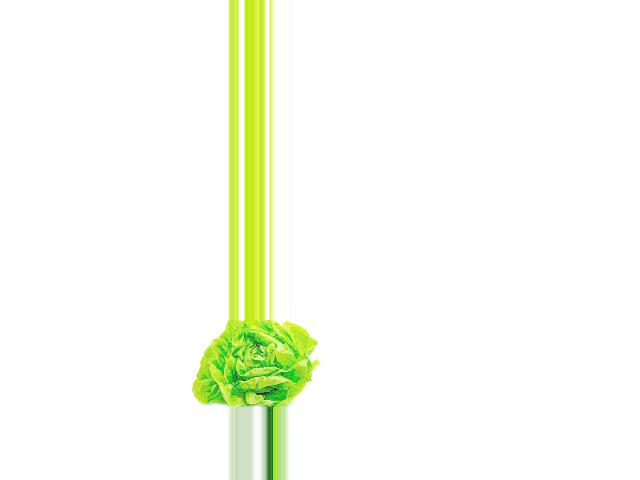lettuce: (189, 320, 314, 408)
